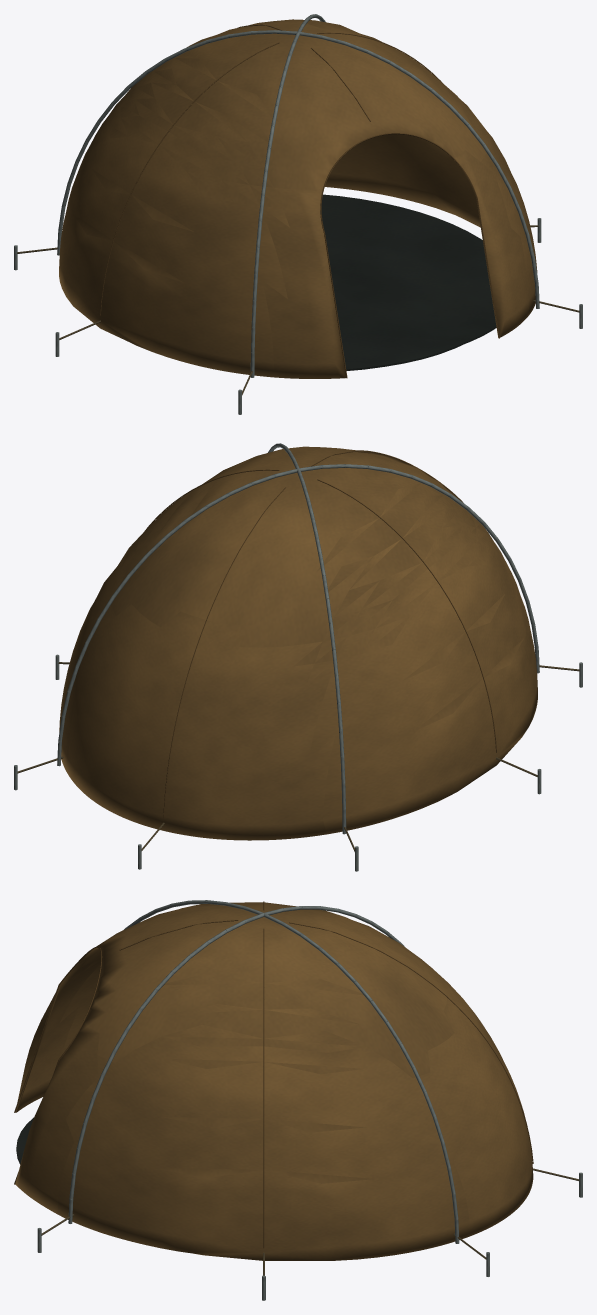
File: level_camp_tent_fitted_pitch_04.glb
3 renders of one model, top to bottom at view 1: azimuth 30°, elevation 25°; view 2: azimuth 150°, elevation 25°; view 3: azimuth 270°, elevation 25°, orthographic.
Visible parts, largest first — view 1: level_camp_tent_fitted_pitch_04; view 2: level_camp_tent_fitted_pitch_04; view 3: level_camp_tent_fitted_pitch_04.
Boxes of the visible parts, x1,y1,x2,y2 form: level_camp_tent_fitted_pitch_04: (14, 14, 582, 414); level_camp_tent_fitted_pitch_04: (14, 443, 582, 871); level_camp_tent_fitted_pitch_04: (14, 900, 582, 1300).
Size of the model in its own units: 3.44 by 1.92 by 3.49.
5 materials, 5 textured.
